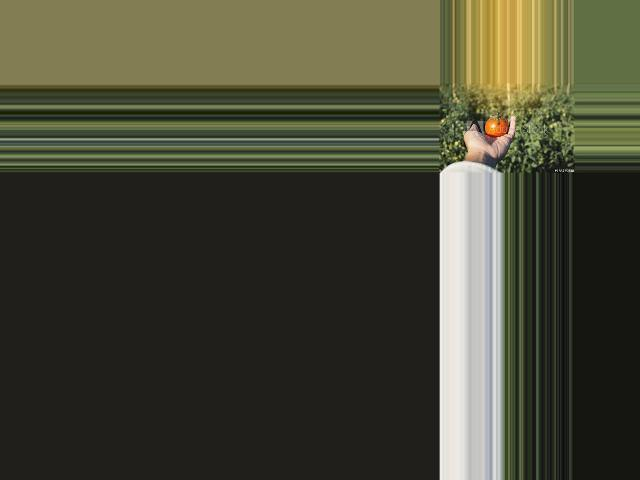tomato: (485, 115, 509, 136)
